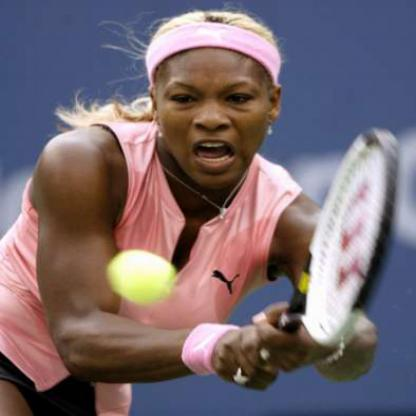face: (156, 13, 272, 190)
